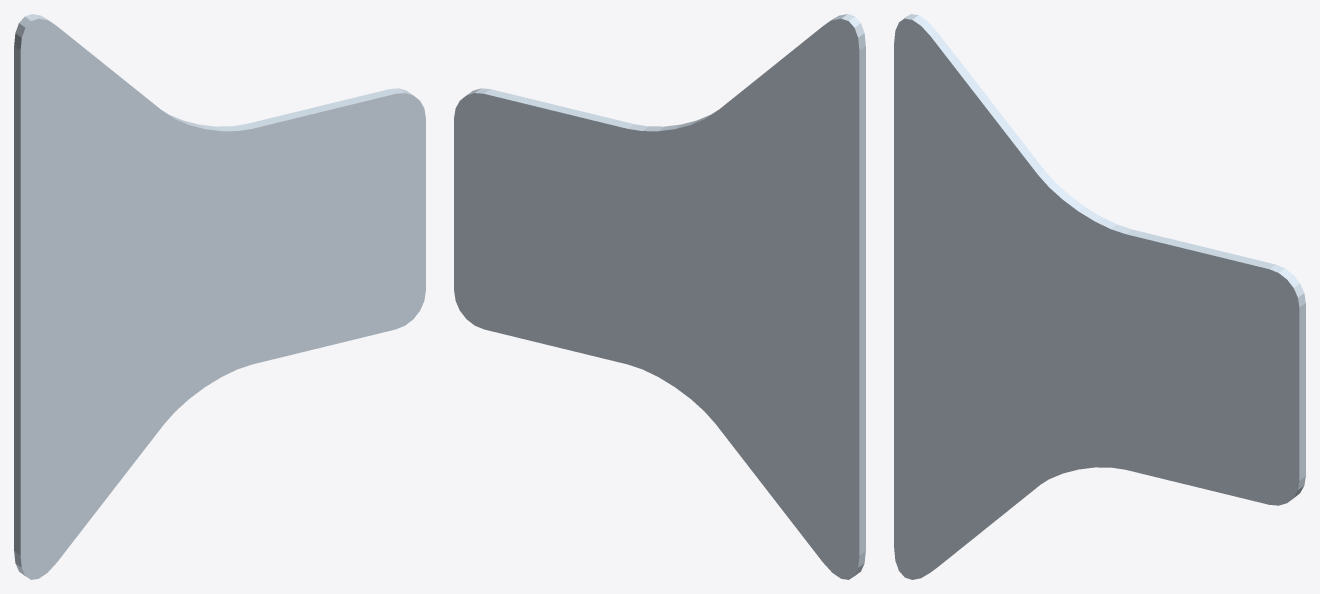
File: Volume_On_3D_Icon.fbx
3 views of the same model, side by side, from view 1: azimuth 30°, elevation 25°; view 2: azimuth 150°, elevation 25°; view 3: azimuth 330°, elevation 25° (orthographic).
Visible parts, largest first — view 1: Volume_On_3D_Icon_01; view 2: Volume_On_3D_Icon_01; view 3: Volume_On_3D_Icon_01.
Part boxes in pixels (box(x1,y1,x2,y2)): Volume_On_3D_Icon_01: box(14, 14, 425, 579); Volume_On_3D_Icon_01: box(454, 14, 865, 579); Volume_On_3D_Icon_01: box(894, 14, 1305, 579).
Bounding box in the file's own units: 72.58 × 95.84 × 2.
